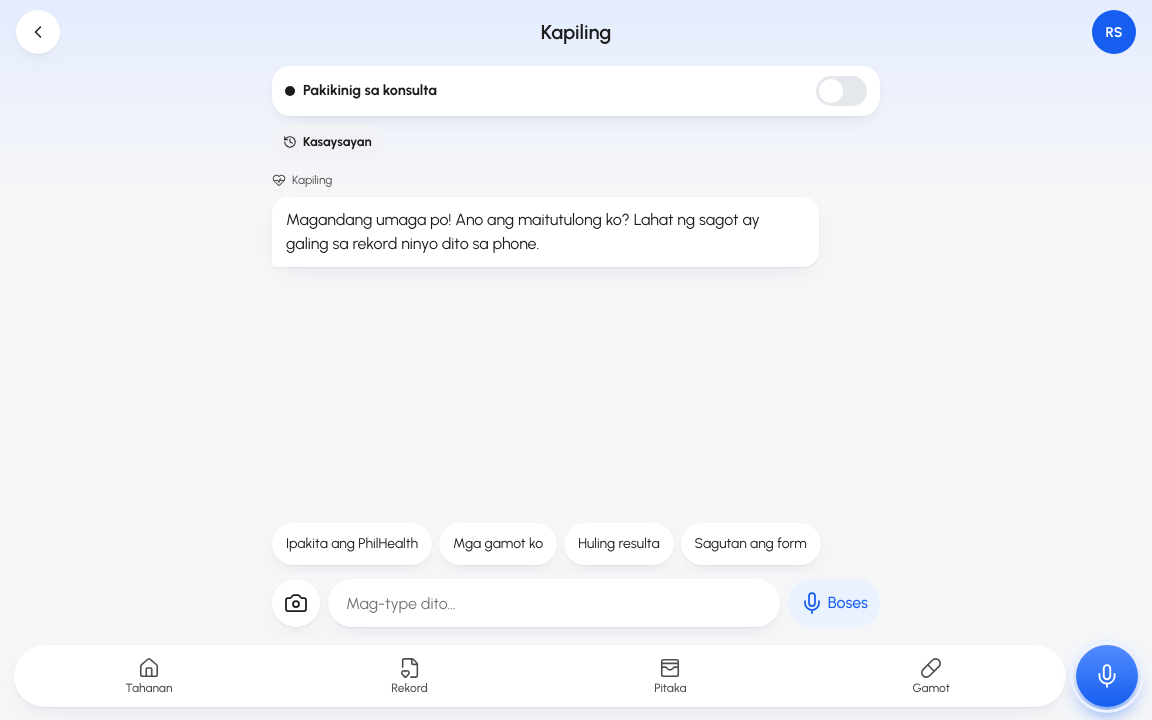
Scenario: ChatPage › history rename sends PATCH and toasts
Click the button "Kasaysayan" at (327, 142), box [272, 124, 383, 159]
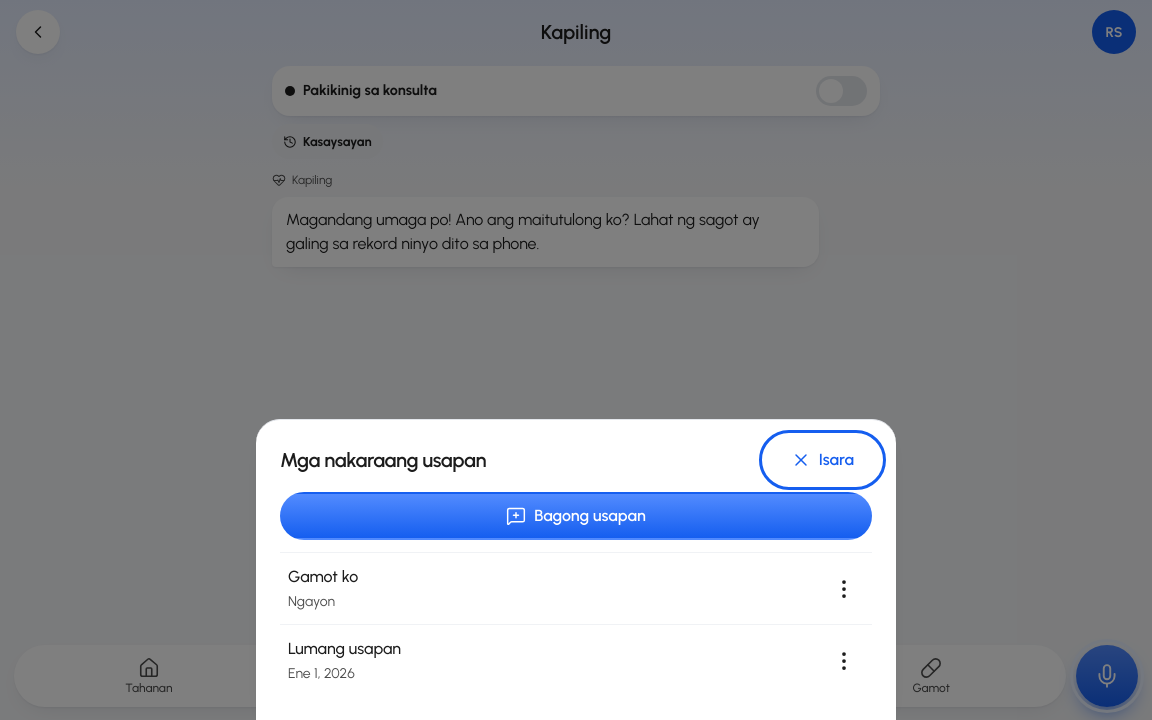
Check: the text "Gamot ko" is shown, box [288, 567, 358, 586]
Click the button named "Mga pagpipilian para sa Gamot ko" at (844, 588), box [816, 557, 872, 620]
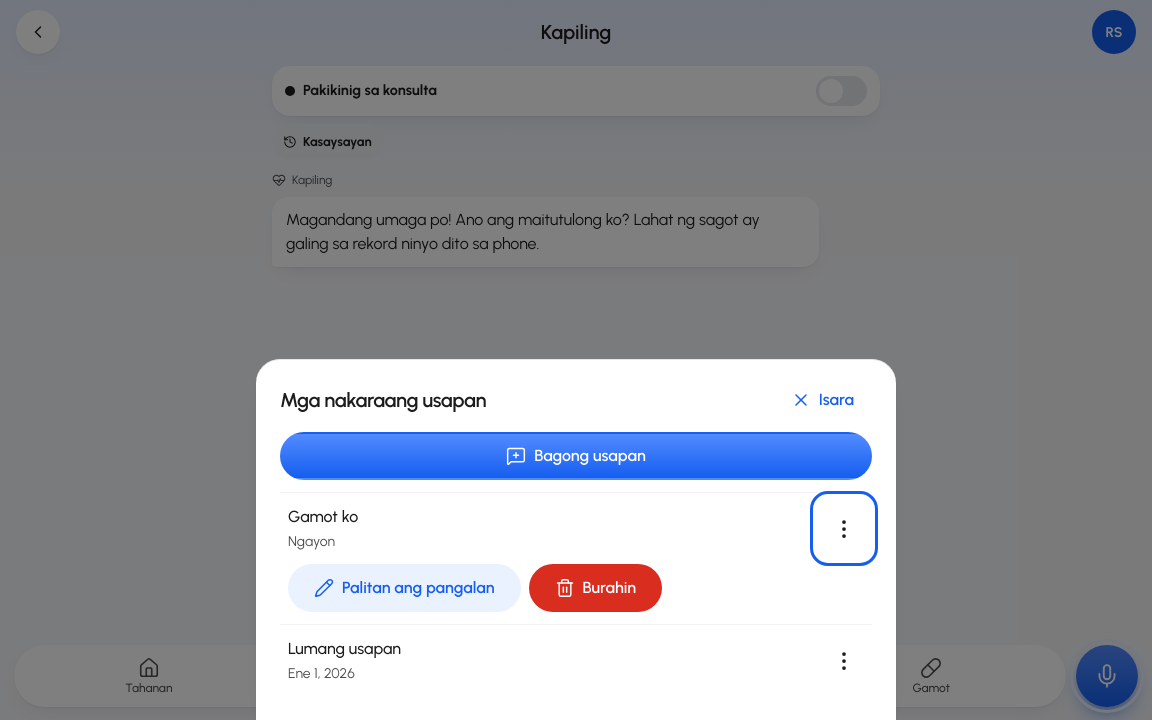
Click the button "Palitan ang pangalan" at (404, 588), box [288, 564, 521, 612]
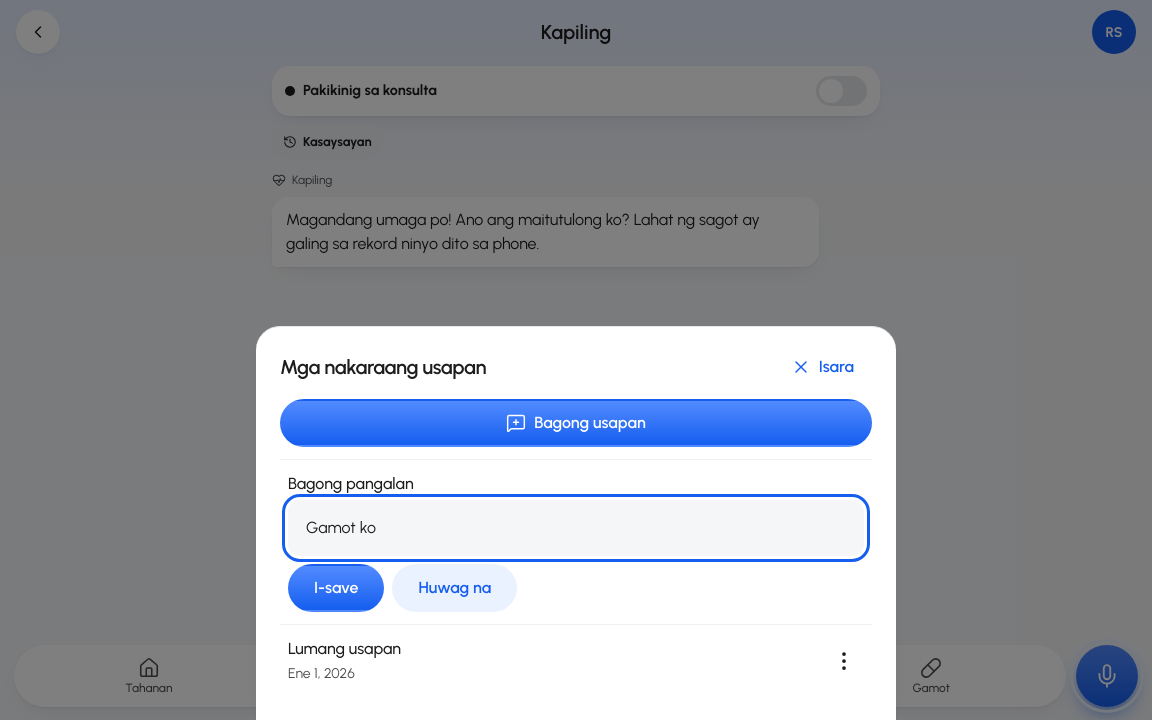
Replace the text in the field labelled "Bagong pangalan" with "Mga gamot ni Lola" at (576, 528), box [288, 500, 864, 556]
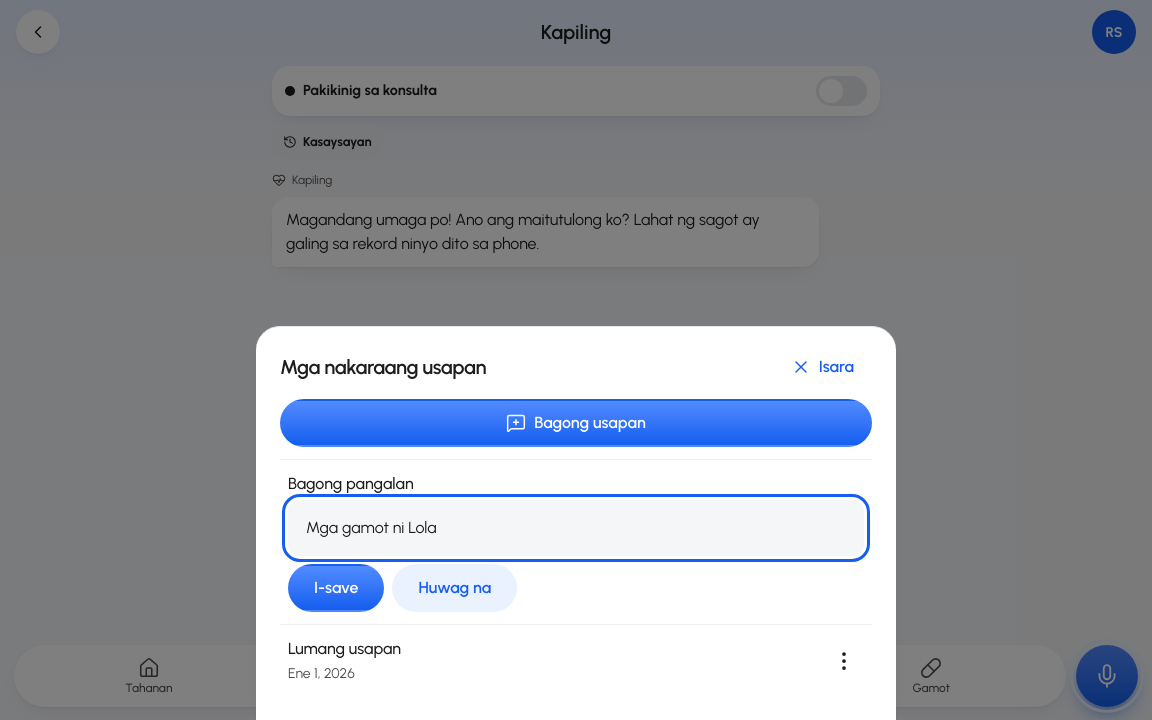
Click the button "I-save" at (336, 588), box [288, 564, 384, 612]
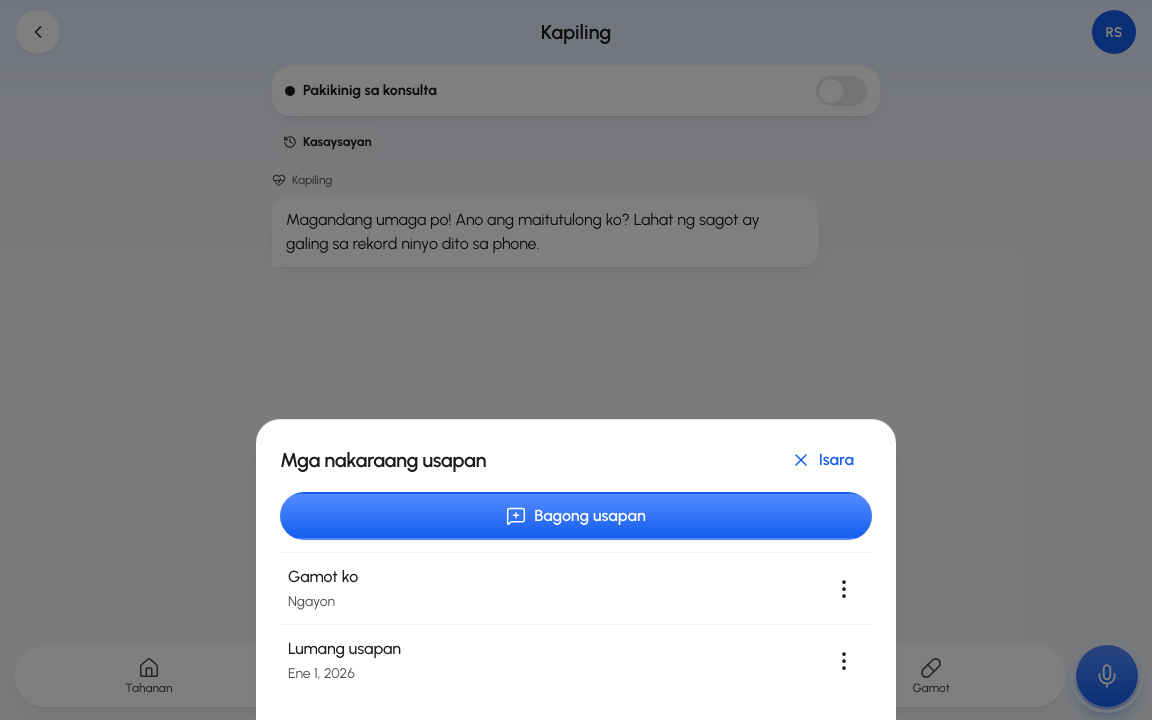
Check: the text "Napalitan ang pangalan ng usapan." is shown, box [343, 581, 574, 599]
